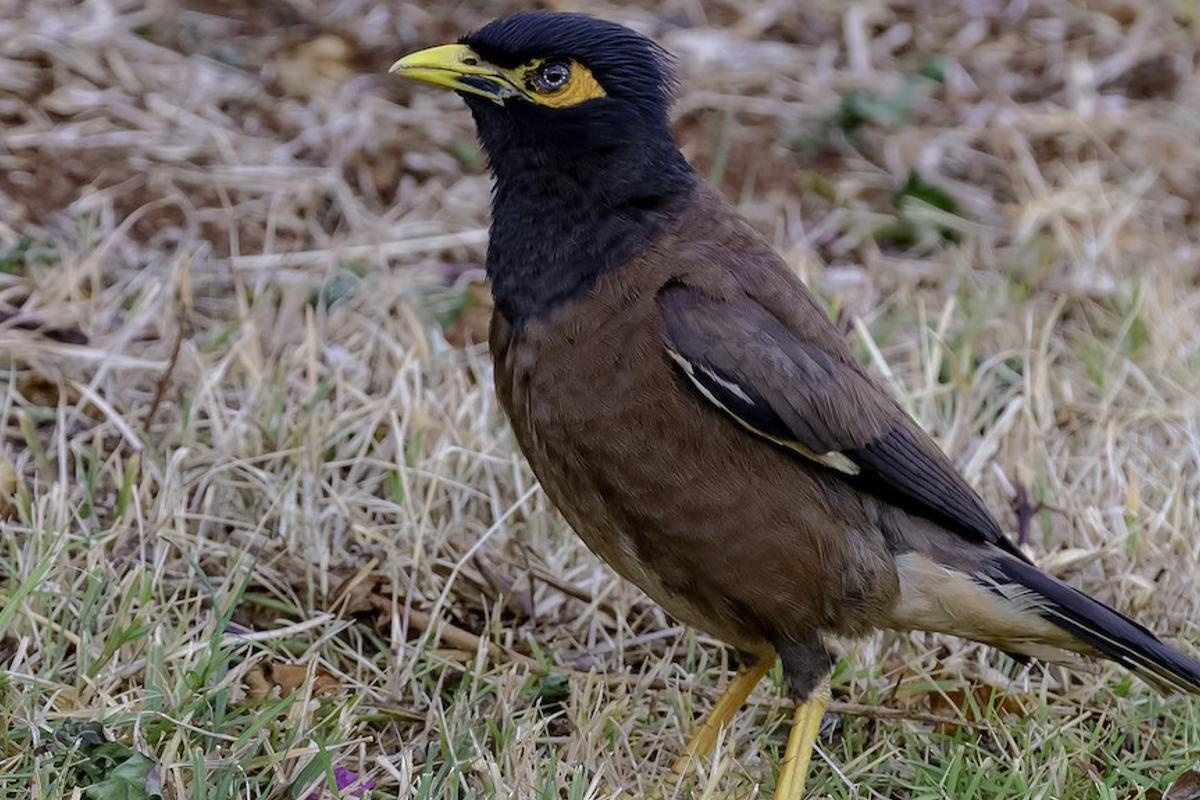myna: (397, 7, 1081, 738)
